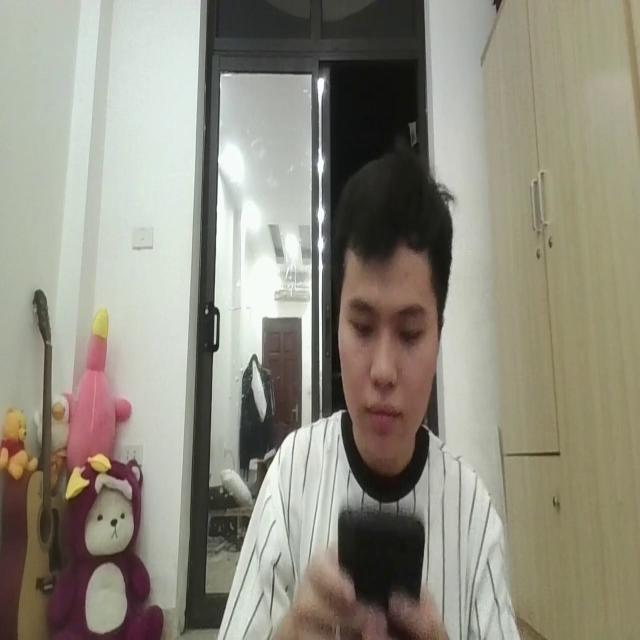phone: (336, 495, 431, 640)
student: (222, 138, 516, 640)
